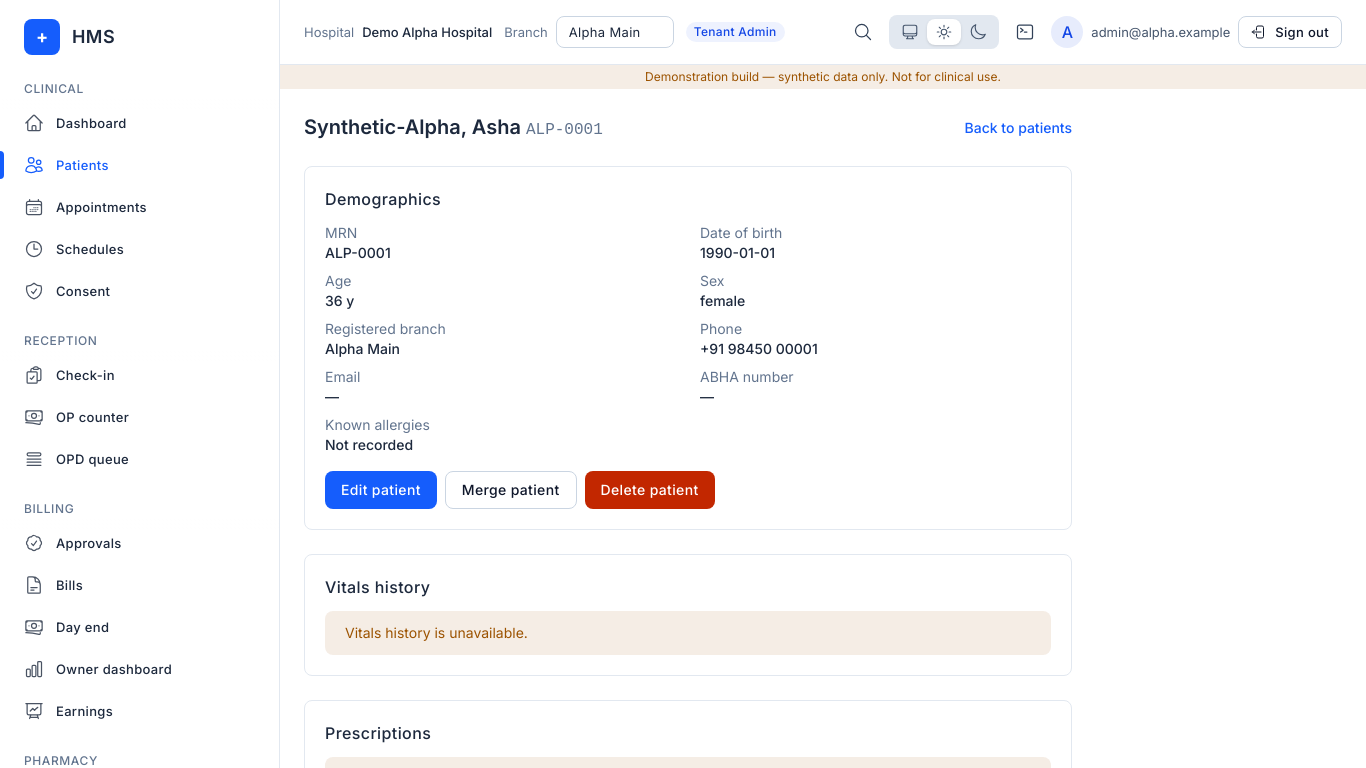
Test case: PatientDetailPage › maps a 409 invalid_state on delete to "cancel open appointments first"
What coordinates should you click on to do the following:
click the button "Delete patient"
I would click on:
 (650, 490)
Its box is [584, 471, 714, 509].
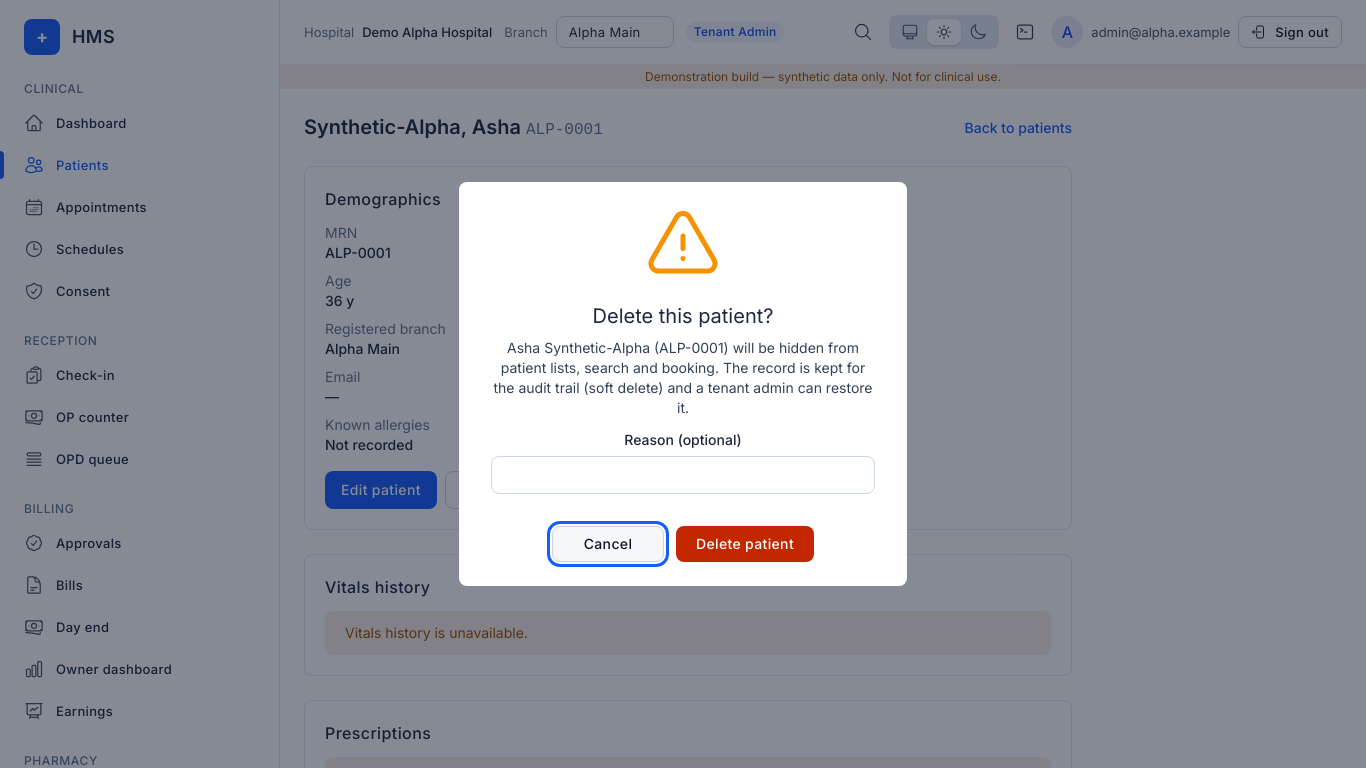
What coordinates should you click on to do the following:
click the button "Delete patient"
I would click on:
 (745, 544)
Its box is [676, 526, 814, 562].
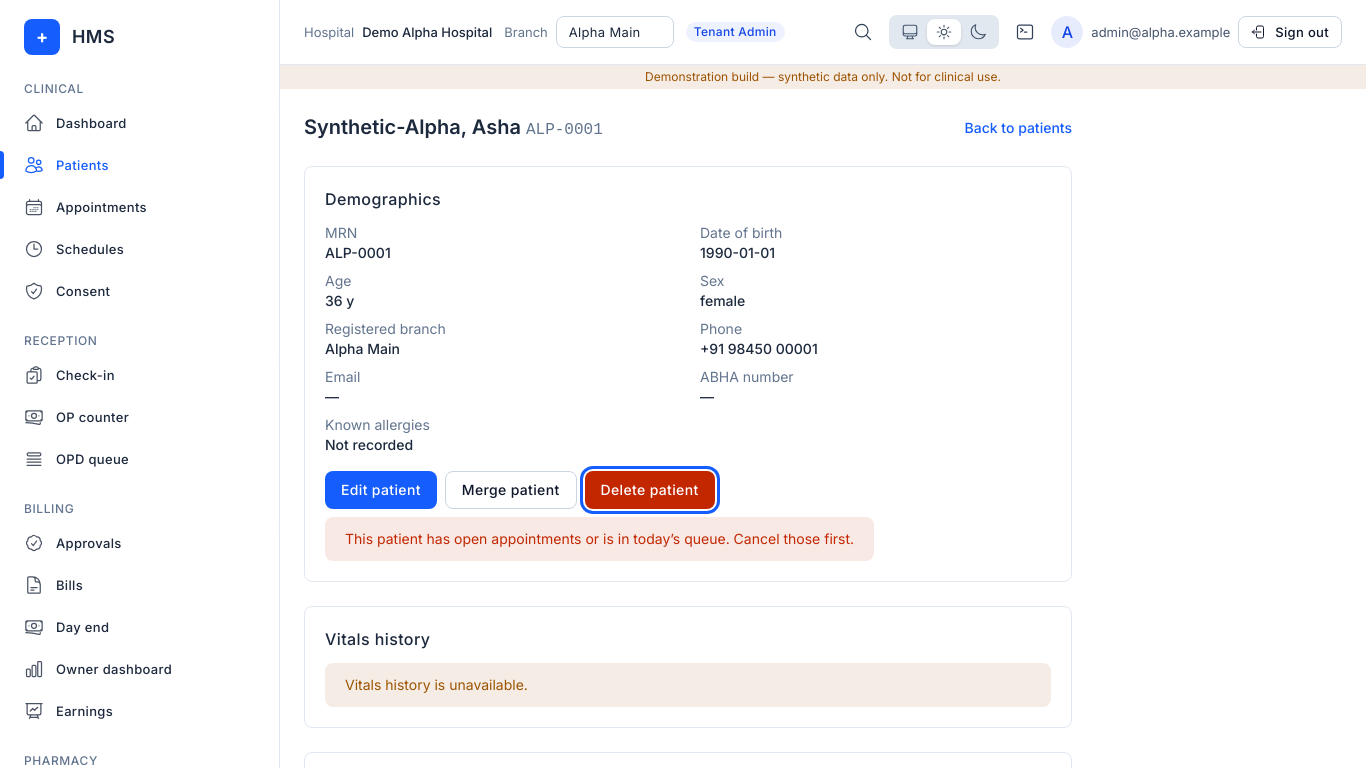
Now the text "This patient has open appointments or is in today’s queue. Cancel those first." is shown, box [325, 517, 874, 561]
Now the dialog is gone
